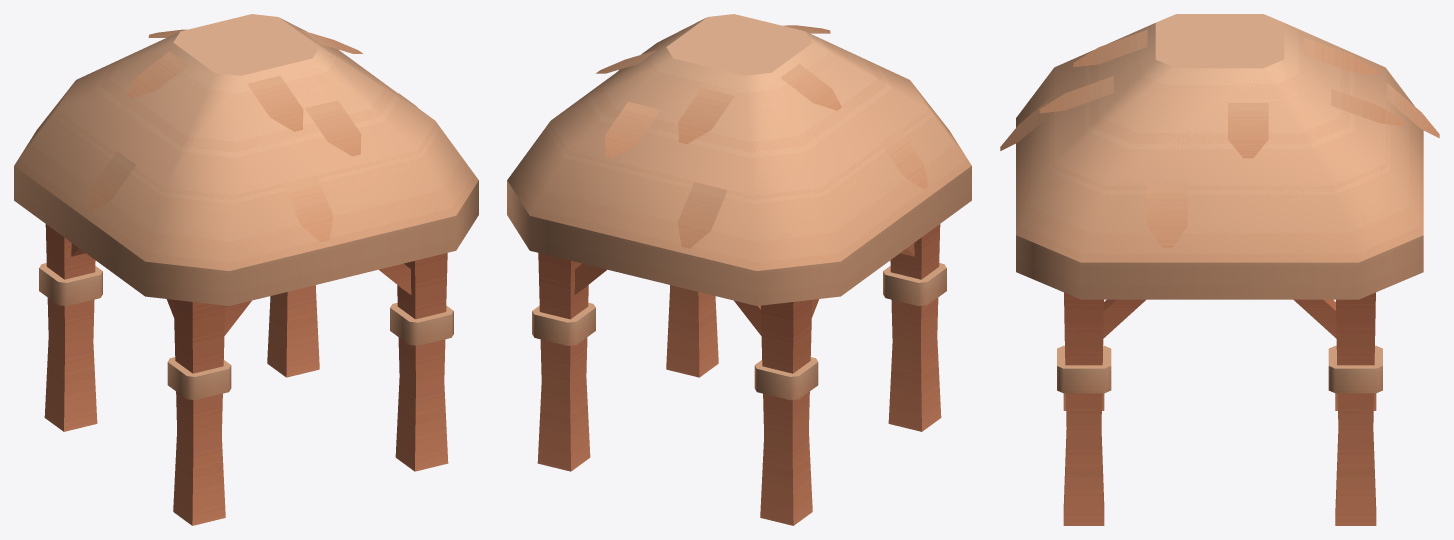
The model's file is structure-roof.glb.
3 renders of one model, left to right at view 1: azimuth 30°, elevation 25°; view 2: azimuth 150°, elevation 25°; view 3: azimuth 270°, elevation 25°, orthographic. The views are drawn at different scales.
Parts seen in each view (by area): view 1: structure-roof; view 2: structure-roof; view 3: structure-roof.
Part boxes in pixels (bbox=[...]): structure-roof: bbox=[14, 14, 478, 525]; structure-roof: bbox=[507, 14, 971, 525]; structure-roof: bbox=[1000, 14, 1439, 525].
Bounding box in the file's own units: 3.09 × 3.4 × 3.23.
1 material, 1 textured.
